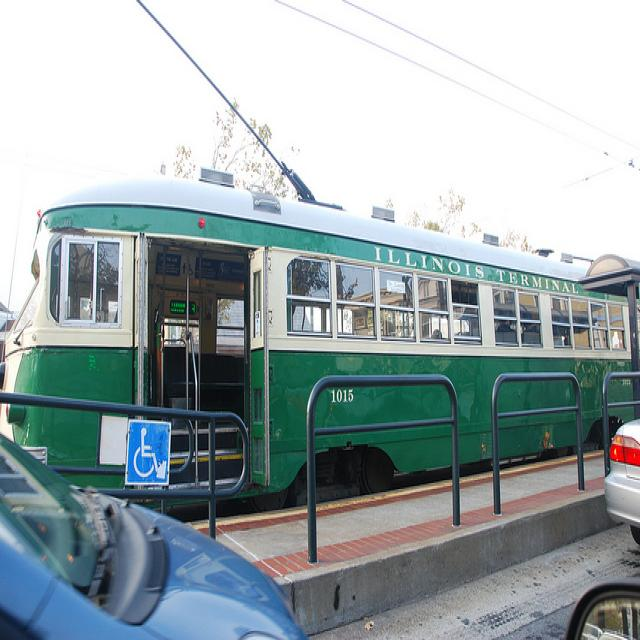Vehicle: (0, 167, 637, 515), (2, 427, 297, 632), (602, 416, 640, 554)
